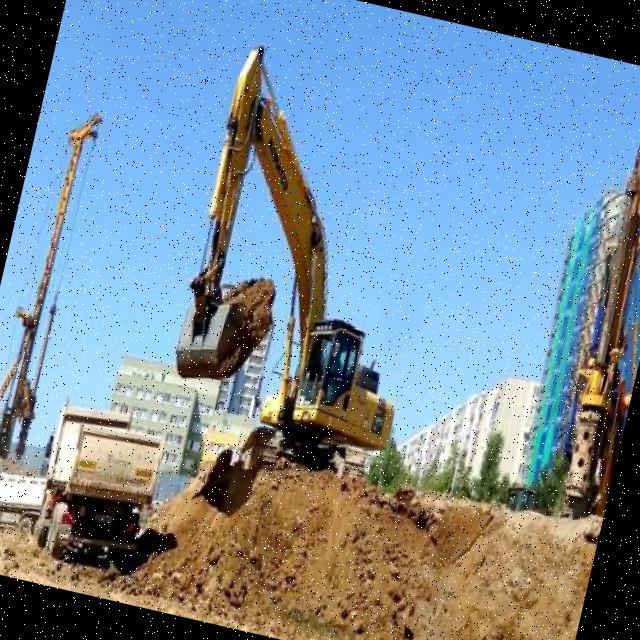Dump Truck: (17, 385, 176, 583), (0, 453, 53, 541)
Excavator: (131, 30, 475, 510)
